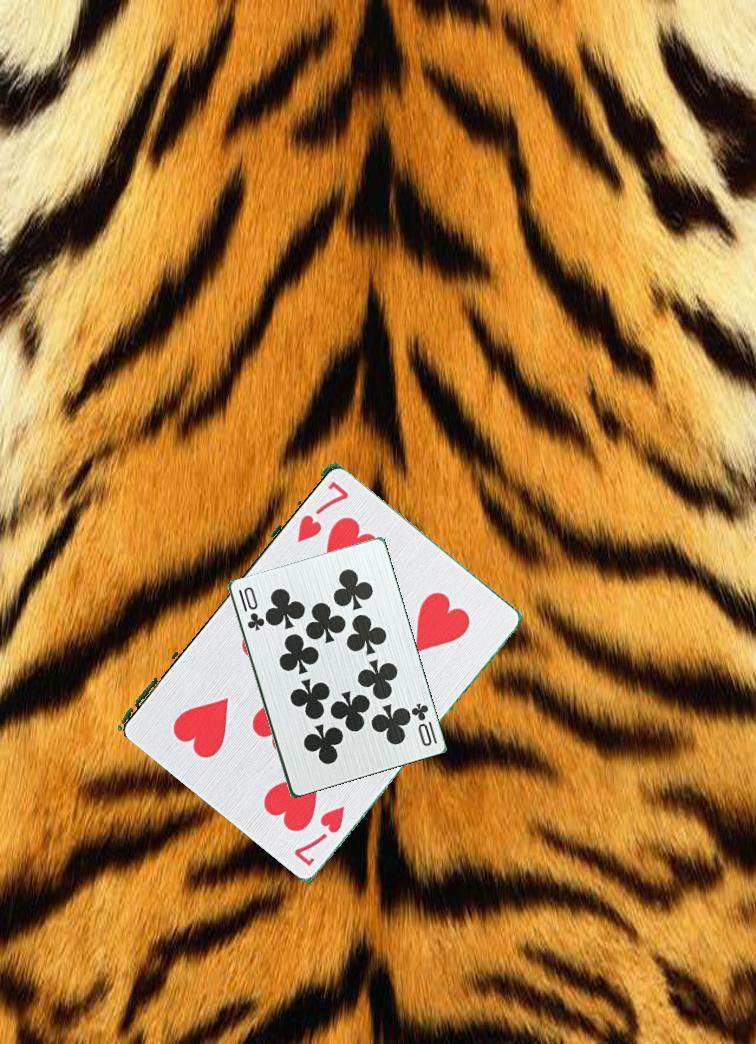7h: (283, 789, 348, 869), (293, 473, 351, 545)
tc: (234, 579, 267, 635), (407, 699, 440, 749)
